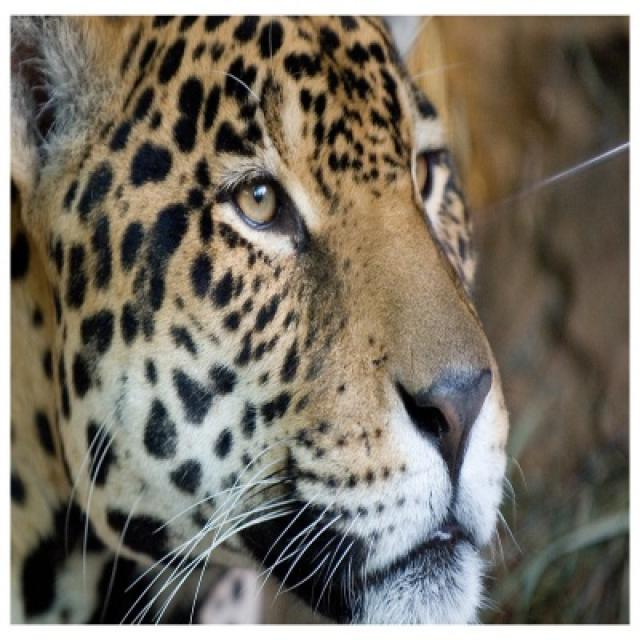Jaguar: (12, 13, 640, 632), (15, 15, 519, 627)
